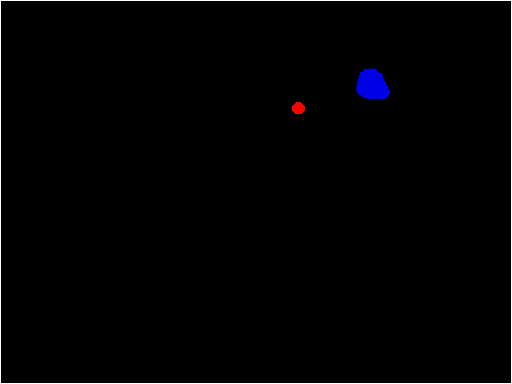chipped: (359, 71, 386, 96)
detached: (291, 101, 303, 112)
